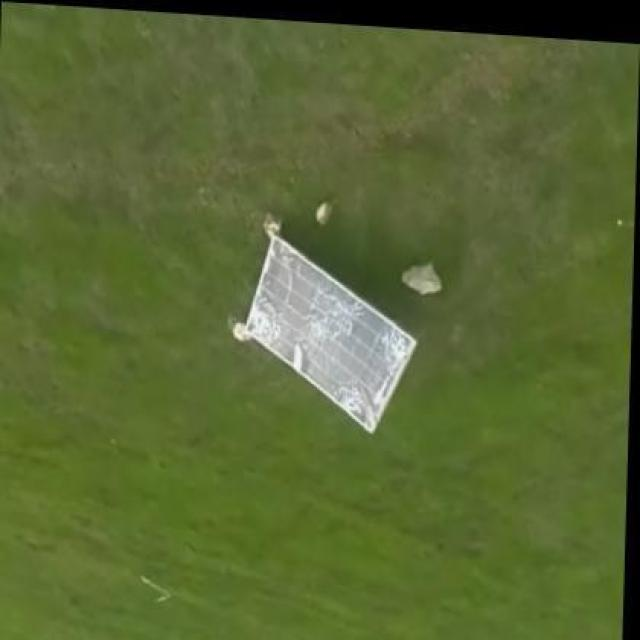cracked: (241, 235, 422, 438)
